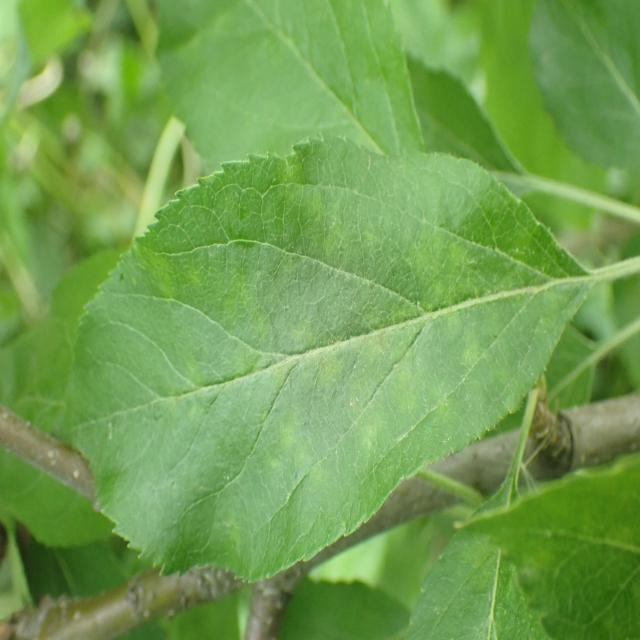scab: (102, 186, 542, 522)
